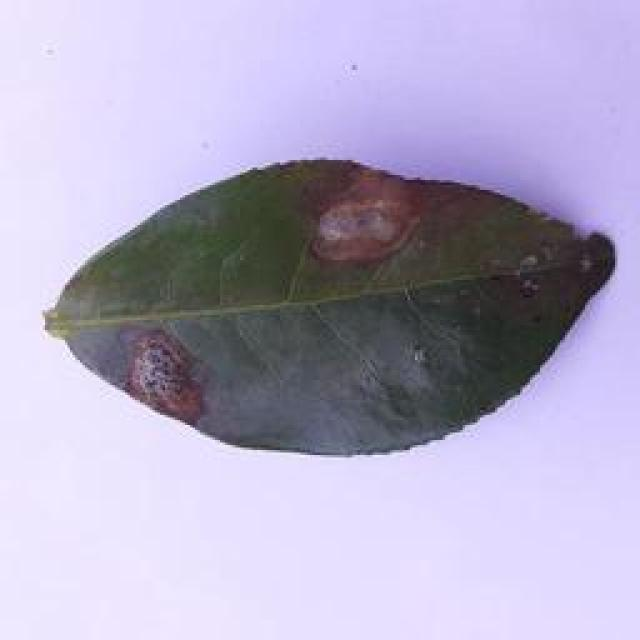Gray Blight: (37, 157, 614, 460)
